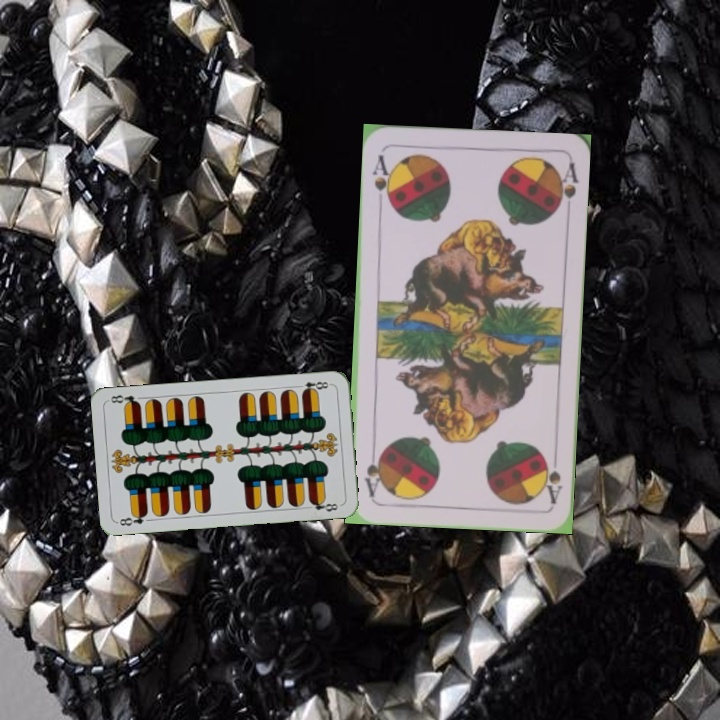E8: (293, 377, 334, 395), (115, 509, 150, 529)
SA: (369, 150, 395, 209), (539, 448, 565, 507)
